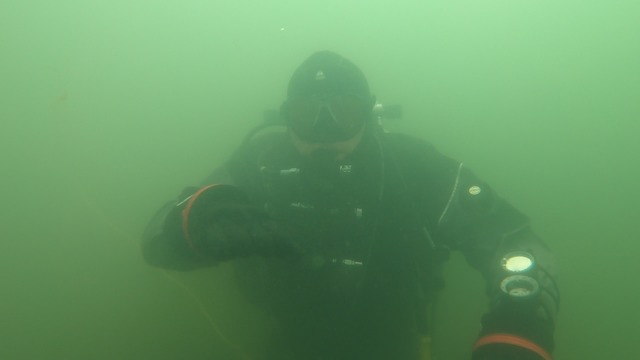Diver: (121, 41, 563, 355)
Hand: (154, 176, 332, 279)
Head: (268, 50, 384, 188)
